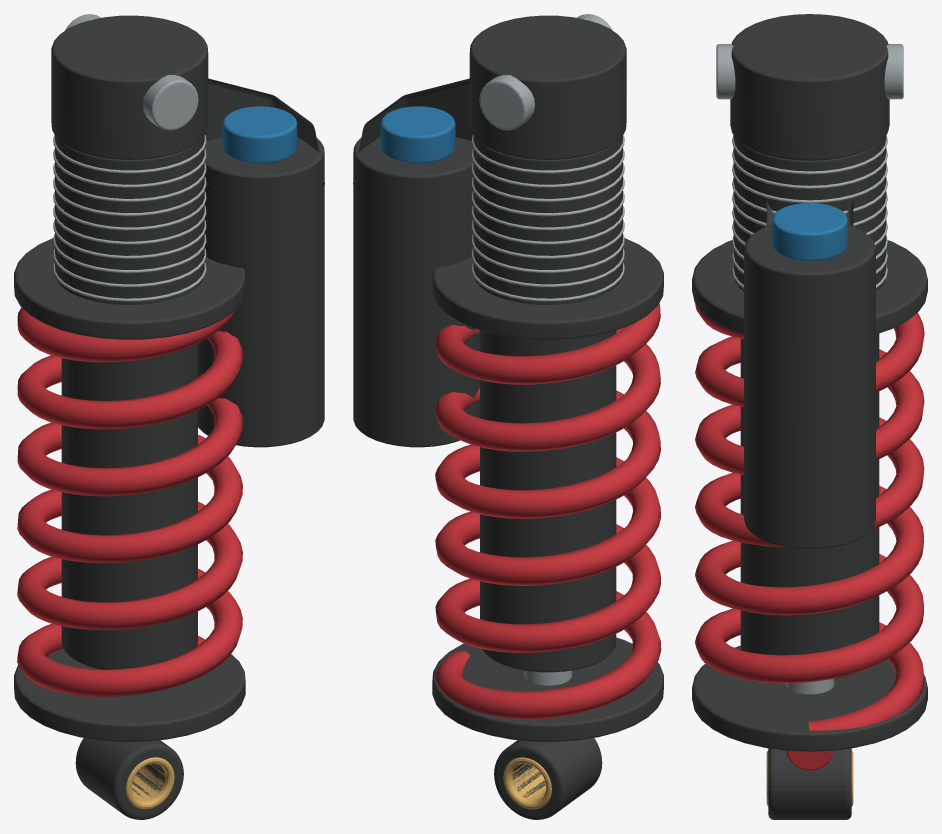
Rendered from rockshox-vivid-coil-ultimate-d1--f8d9a613.glb.
3 renders of one model, left to right at view 1: azimuth 30°, elevation 25°; view 2: azimuth 150°, elevation 25°; view 3: azimuth 270°, elevation 25°, orthographic.
Visible parts, largest first — view 1: rockshox-vivid-coil-ultimate-d1--f8d9a613__link, rockshox-vivid-coil-ultimate-d1--f8d9a613__rebound, rockshox-vivid-coil-ultimate-d1--f8d9a613__bolts, rockshox-vivid-coil-ultimate-d1--f8d9a613__adjuster, rockshox-vivid-coil-ultimate-d1--f8d9a613__stanchions; view 2: rockshox-vivid-coil-ultimate-d1--f8d9a613__link, rockshox-vivid-coil-ultimate-d1--f8d9a613__rebound, rockshox-vivid-coil-ultimate-d1--f8d9a613__bolts, rockshox-vivid-coil-ultimate-d1--f8d9a613__adjuster, rockshox-vivid-coil-ultimate-d1--f8d9a613__stanchions; view 3: rockshox-vivid-coil-ultimate-d1--f8d9a613__link, rockshox-vivid-coil-ultimate-d1--f8d9a613__rebound, rockshox-vivid-coil-ultimate-d1--f8d9a613__bolts, rockshox-vivid-coil-ultimate-d1--f8d9a613__adjuster.
Part boxes in pixels (<box>): rockshox-vivid-coil-ultimate-d1--f8d9a613__link: <box>14,15,324,819</box>; rockshox-vivid-coil-ultimate-d1--f8d9a613__rebound: <box>17,265,242,697</box>; rockshox-vivid-coil-ultimate-d1--f8d9a613__bolts: <box>53,14,206,301</box>; rockshox-vivid-coil-ultimate-d1--f8d9a613__adjuster: <box>222,106,297,163</box>; rockshox-vivid-coil-ultimate-d1--f8d9a613__stanchions: <box>126,757,174,809</box>; rockshox-vivid-coil-ultimate-d1--f8d9a613__link: <box>353,15,663,819</box>; rockshox-vivid-coil-ultimate-d1--f8d9a613__rebound: <box>435,303,661,719</box>; rockshox-vivid-coil-ultimate-d1--f8d9a613__bolts: <box>471,14,624,685</box>; rockshox-vivid-coil-ultimate-d1--f8d9a613__adjuster: <box>380,106,455,163</box>; rockshox-vivid-coil-ultimate-d1--f8d9a613__stanchions: <box>503,757,551,809</box>; rockshox-vivid-coil-ultimate-d1--f8d9a613__link: <box>692,14,927,819</box>; rockshox-vivid-coil-ultimate-d1--f8d9a613__rebound: <box>695,304,924,770</box>; rockshox-vivid-coil-ultimate-d1--f8d9a613__bolts: <box>716,44,903,694</box>; rockshox-vivid-coil-ultimate-d1--f8d9a613__adjuster: <box>772,203,847,260</box>.
Size of the model in its own units: 0.097 by 0.245 by 0.068.
